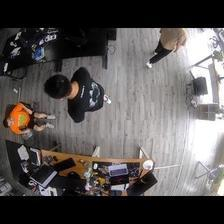normal: (44, 67, 112, 124), (145, 28, 188, 69), (3, 103, 55, 135)
